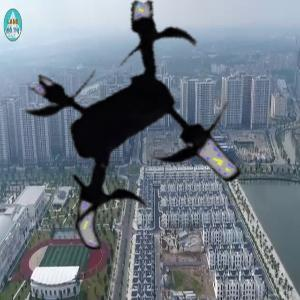drone: (11, 6, 270, 265)
